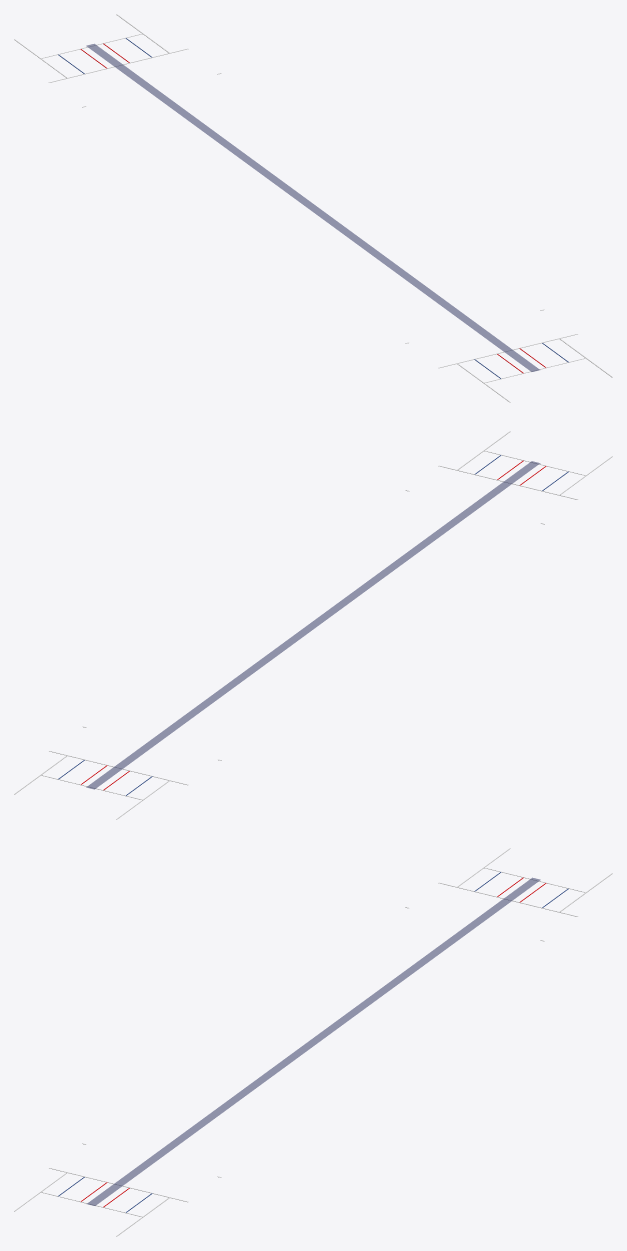
Rendered from pitch_line_2026-10-24.glb.
The picture shows the model from 3 angles, top to bottom: view 1: azimuth 30°, elevation 25°; view 2: azimuth 150°, elevation 25°; view 3: azimuth 330°, elevation 25°; orthographic projection.
Visible parts, largest first — view 1: pitch_mid_line, pitch_white_line_01, pitch_white_line_02; view 2: pitch_mid_line, pitch_white_line_02, pitch_white_line_01; view 3: pitch_mid_line, pitch_white_line_01, pitch_white_line_02.
Boxes of the visible parts, x1,y1,x2,y2 form: pitch_mid_line: (86,44,539,371); pitch_white_line_01: (14,14,221,107); pitch_white_line_02: (405,309,612,402); pitch_mid_line: (86,461,540,789); pitch_white_line_02: (405,431,612,524); pitch_white_line_01: (14,726,221,819); pitch_mid_line: (87,877,540,1205); pitch_white_line_01: (405,848,612,941); pitch_white_line_02: (14,1143,221,1236).
Bounding box in the file's own units: 3.66 × 0.0118 × 22.56.
